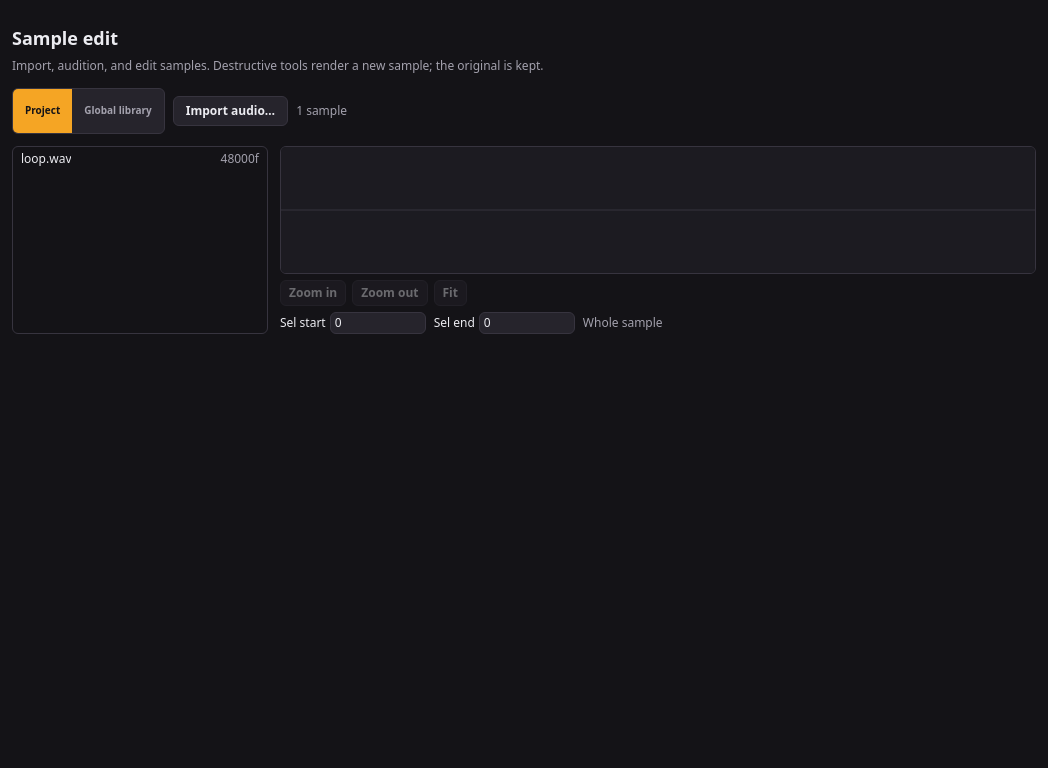
Test: SampleEditPanel groove bake (spec §7.5, §8.5.4) › disables the bake when there is no track to bake into
What coordinates should you click on to do the following:
click the button "loop.wav 48000f"
I would click on:
 (140, 158)
Its box is [13,146,267,170].
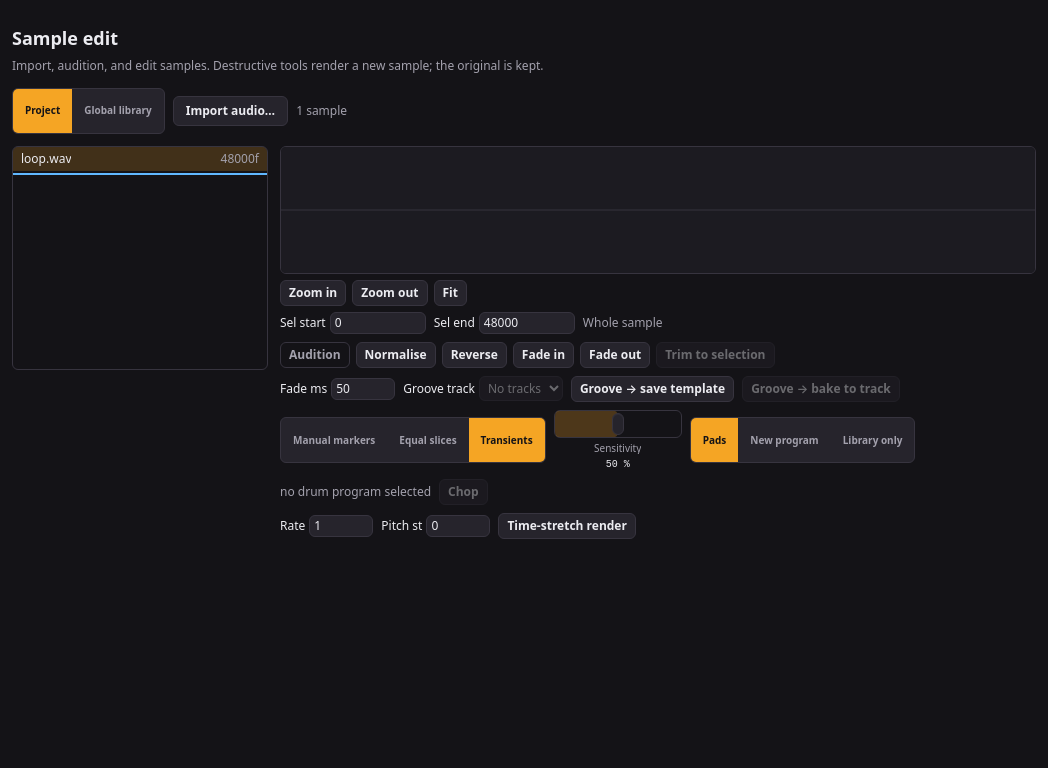
Check: the button with test id "sample-groove" is disabled, box [742,376,900,402]
